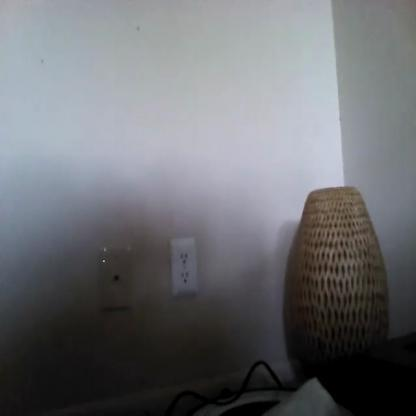OUTLET: (172, 238, 198, 298)
